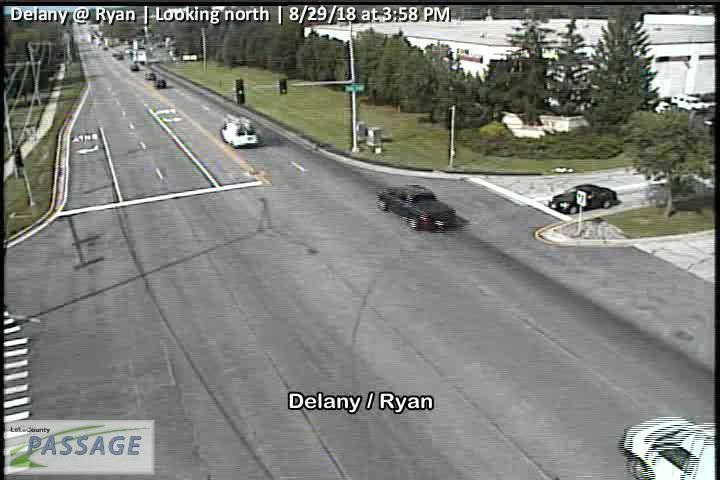SUV: (221, 122, 258, 147)
Sedan: (548, 184, 618, 213)
Truck: (378, 184, 457, 230)
